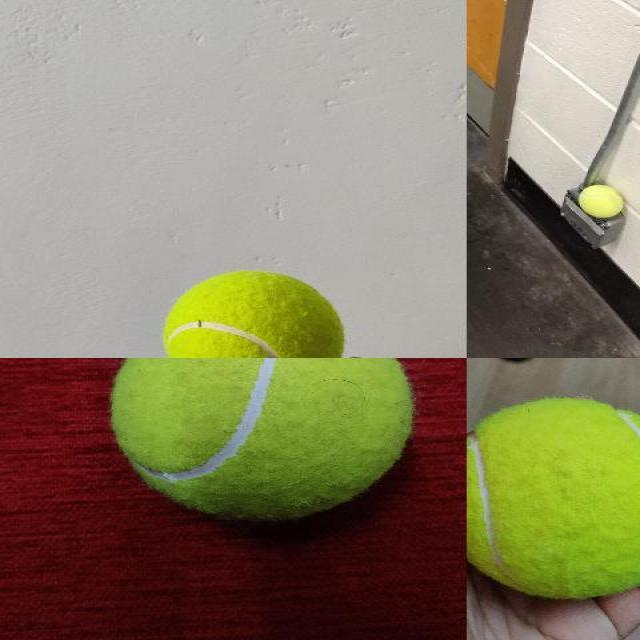tennis-ball: (107, 358, 417, 520), (467, 398, 639, 599), (164, 270, 346, 357), (577, 184, 623, 218)
